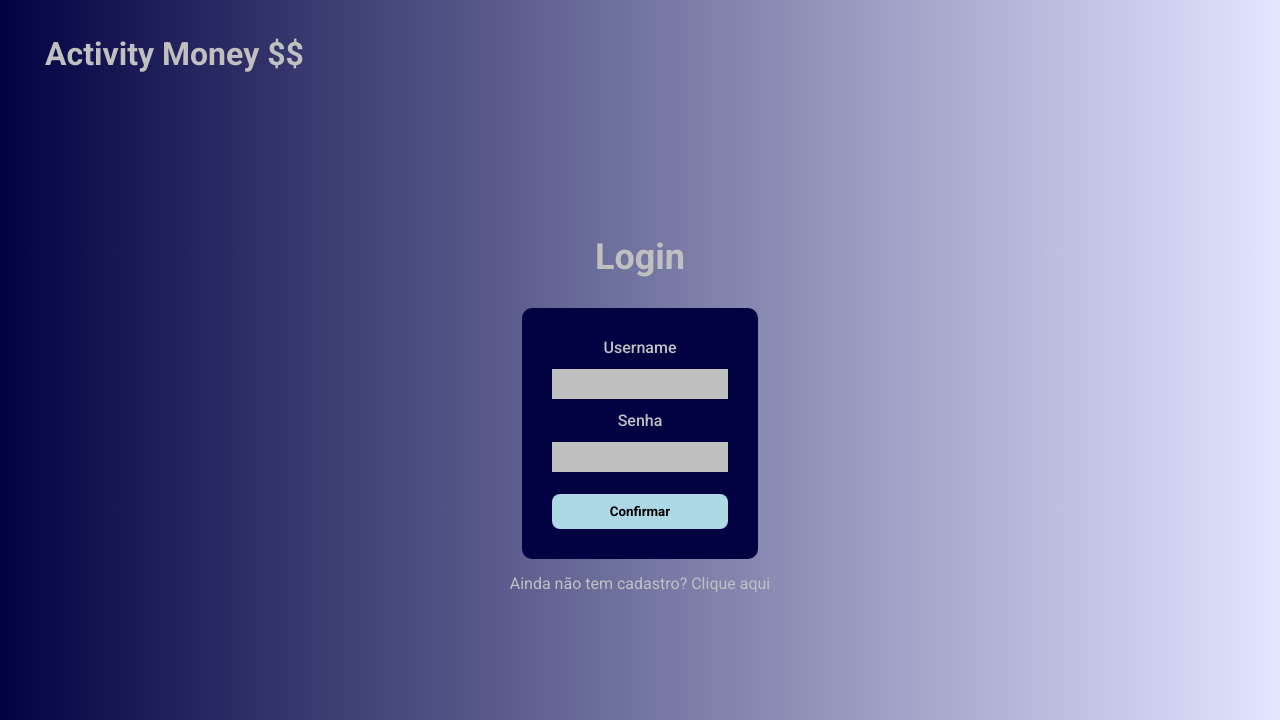
Tests the Login page › should go to Login page after type in the two inputs to Sign Up and confirm
Click the link "Ainda não tem cadastro? Clique aqui" at (641, 584), box [510,574,771,593]
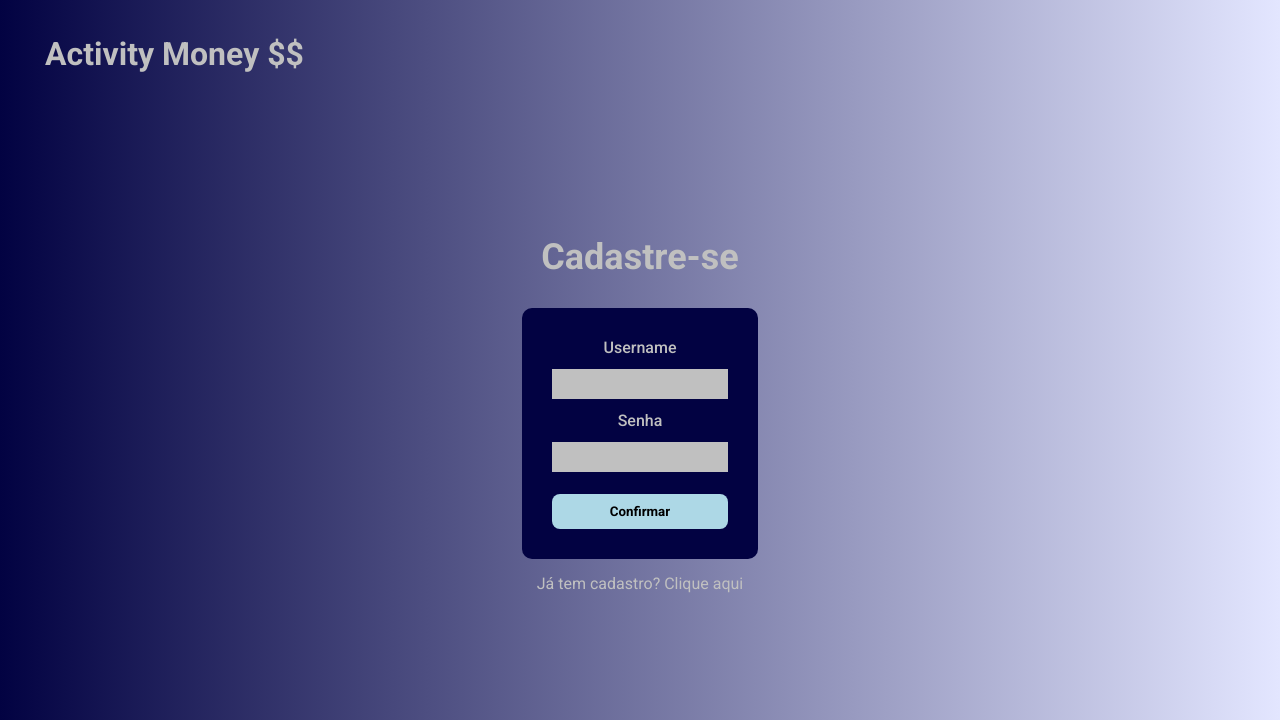
expect the heading "Cadastre-se" is shown: met, box [541,236,739,278]
Type "joao" into the field with test id "input-username" at (640, 384), box [552,369,728,399]
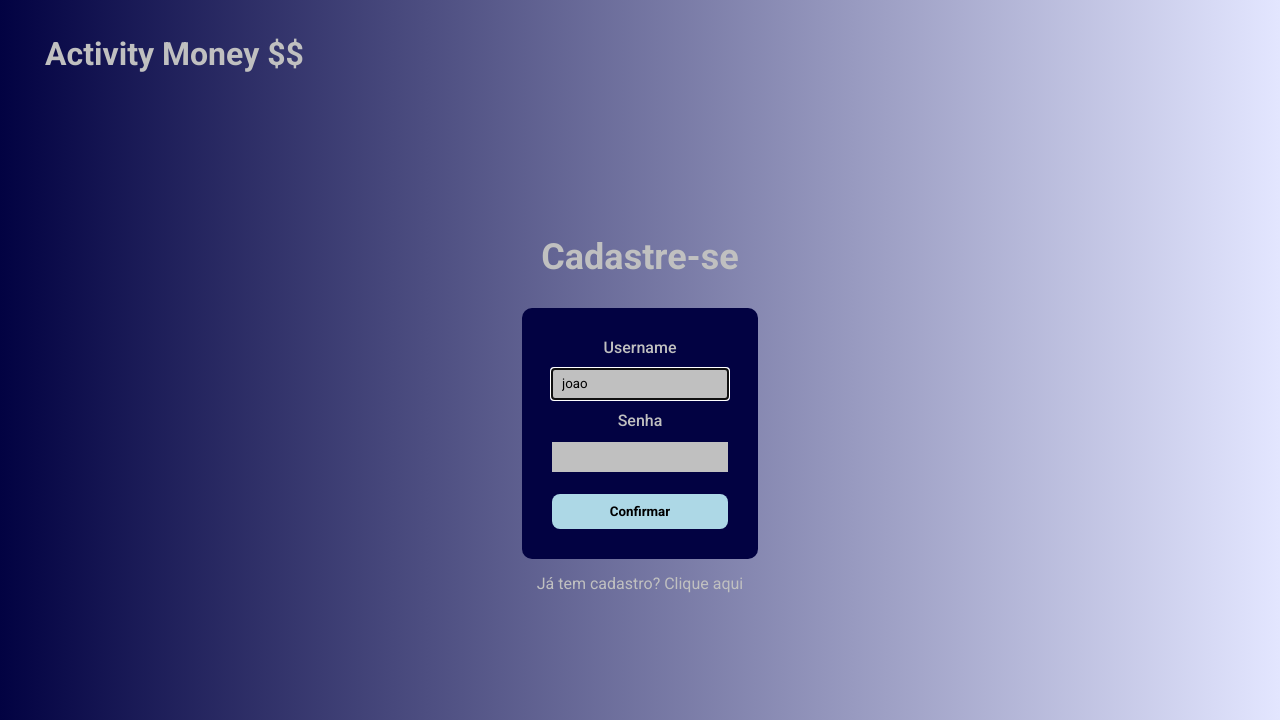
Type "123456" into the password field with test id "input-password" at (640, 457), box [552,442,728,472]
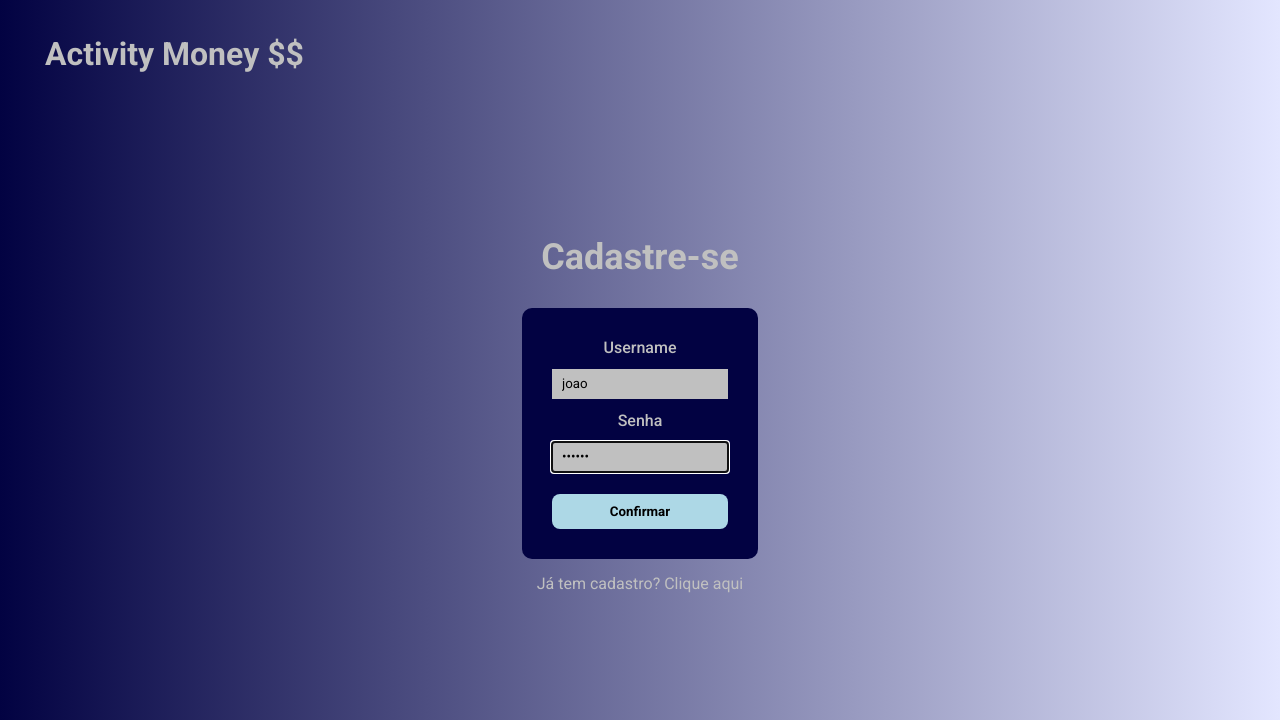
Click the button "Confirmar" at (640, 512), box [552,494,728,529]
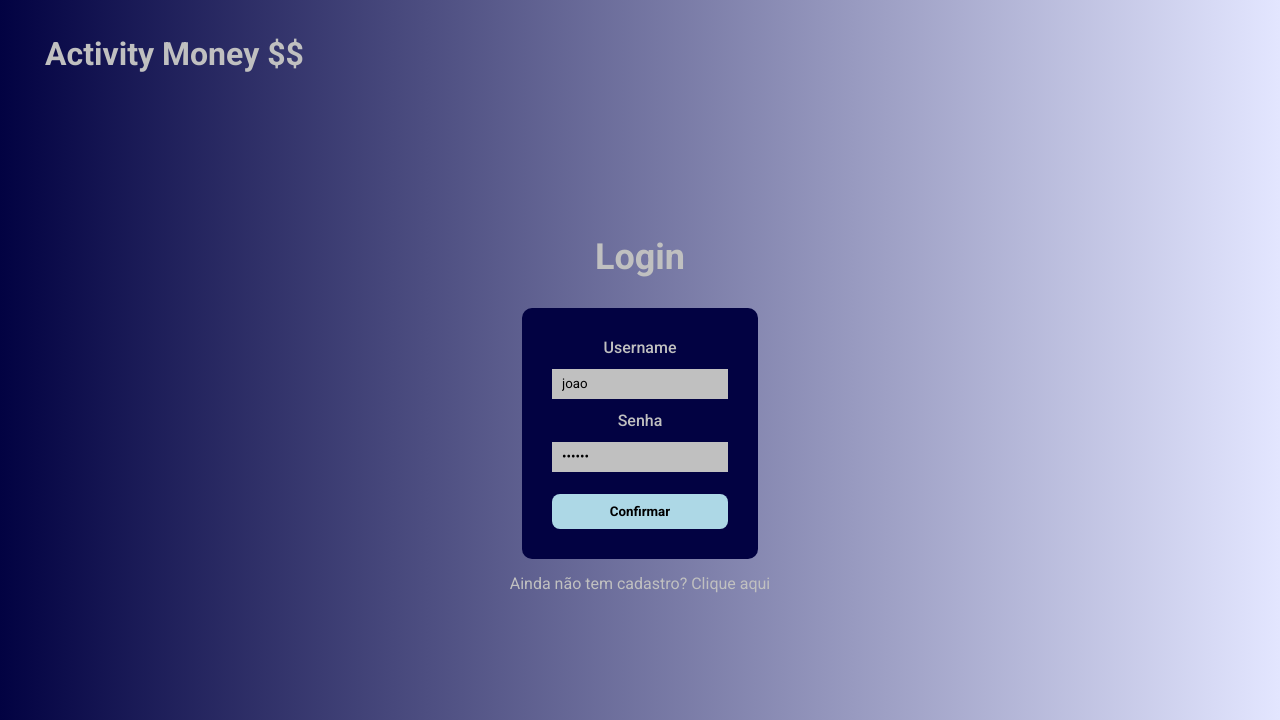
expect the heading "Login" is shown: met, box [595,236,685,278]
